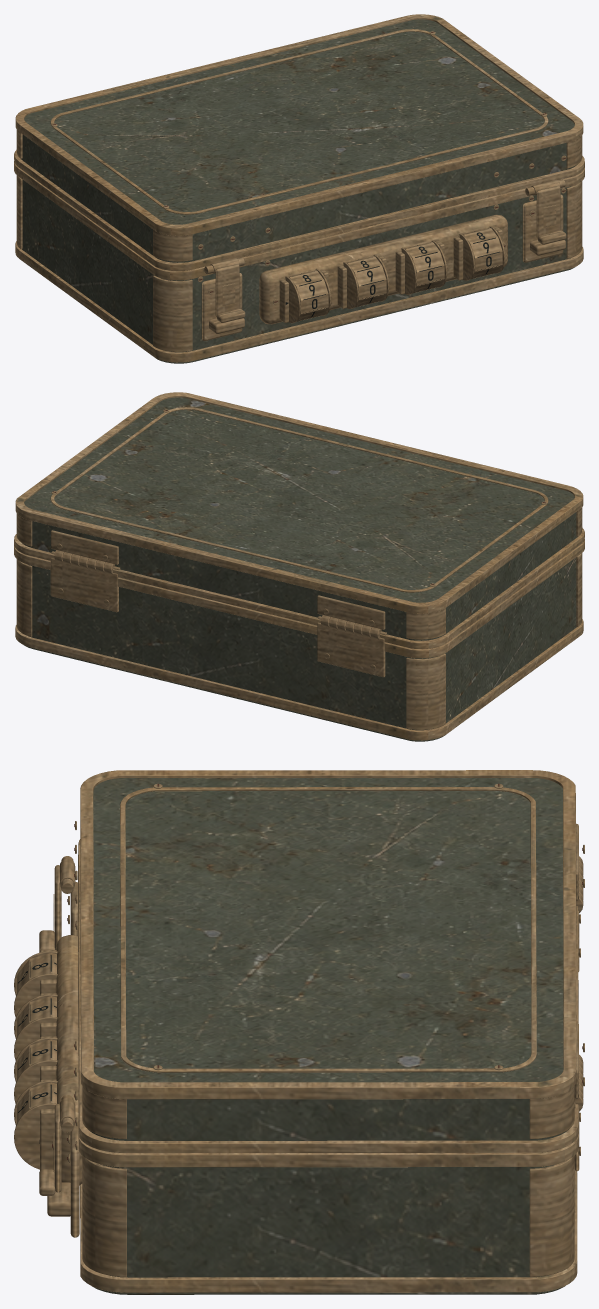
The model's file is briefcase.glb.
3 renders of one model, top to bottom at view 1: azimuth 30°, elevation 25°; view 2: azimuth 150°, elevation 25°; view 3: azimuth 270°, elevation 25°, orthographic. The views are drawn at different scales.
Visible parts, largest first — view 1: LidStatic, BodyStatic_Hardware, LidStatic_Hardware, BodyStatic, Wheel_3, Wheel_2, Wheel_0, Wheel_1, LatchPivot_L, LatchPivot_R; view 2: LidStatic, BodyStatic, LidStatic_Hardware, BodyStatic_Hardware; view 3: LidStatic, BodyStatic, LidStatic_Hardware, BodyStatic_Hardware, Wheel_3, Wheel_1, Wheel_0, Wheel_2, LatchPivot_R, LatchPivot_L.
Part boxes in pixels (box(x1,y1,x2,y2)): LidStatic: box(21, 19, 577, 262); BodyStatic_Hardware: box(14, 161, 584, 362); LidStatic_Hardware: box(14, 14, 584, 271); BodyStatic: box(22, 180, 574, 363); Wheel_3: box(459, 226, 505, 280); Wheel_2: box(401, 240, 447, 294); Wheel_0: box(285, 268, 331, 323); Wheel_1: box(343, 254, 389, 308); LatchPivot_L: box(210, 258, 245, 322); LatchPivot_R: box(531, 179, 566, 244); LidStatic: box(21, 397, 577, 640); BodyStatic: box(24, 557, 576, 741); LidStatic_Hardware: box(14, 392, 584, 649); BodyStatic_Hardware: box(14, 539, 584, 740); LidStatic: box(88, 778, 568, 1140); BodyStatic: box(92, 1164, 564, 1294); LidStatic_Hardware: box(75, 770, 584, 1153); BodyStatic_Hardware: box(40, 855, 583, 1292); Wheel_3: box(14, 1080, 57, 1169); Wheel_1: box(14, 994, 57, 1060); Wheel_0: box(14, 951, 57, 1016); Wheel_2: box(14, 1037, 57, 1103); LatchPivot_R: box(39, 1098, 75, 1195); LatchPivot_L: box(39, 859, 75, 952).
Size of the model in its own units: 0.977 by 0.306 by 0.7372.
5 materials, 4 textured.
